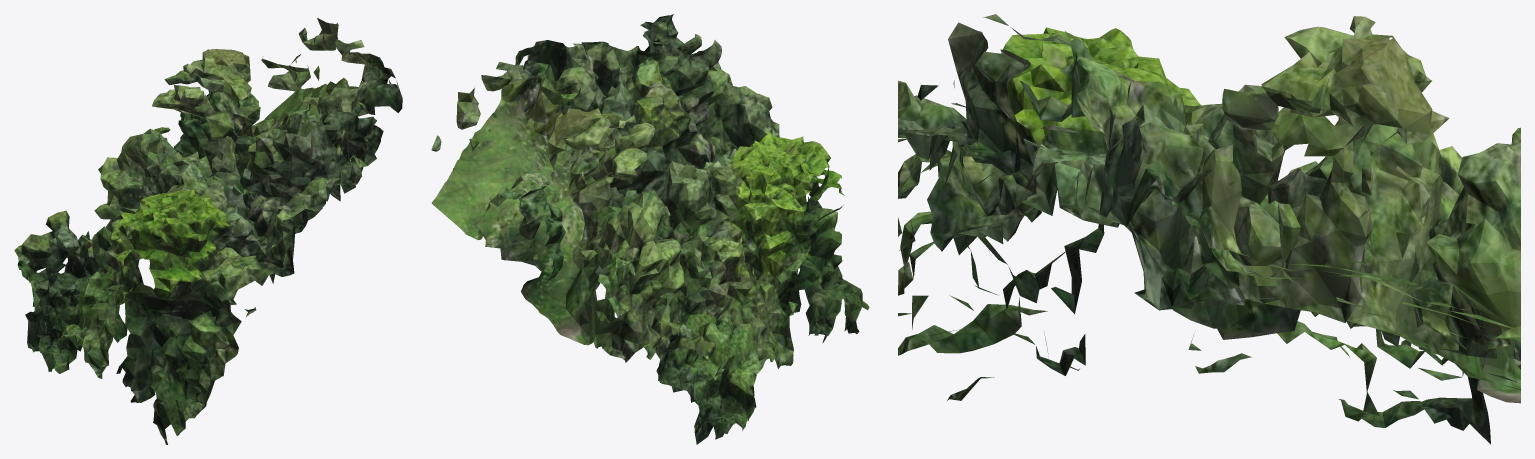
3 views of the same model, side by side, from view 1: azimuth 30°, elevation 25°; view 2: azimuth 150°, elevation 25°; view 3: azimuth 270°, elevation 25° (orthographic). The views are drawn at different scales.
Size of the model in its own units: 52.22 by 49.75 by 52.22.
8 materials, 8 textured.
